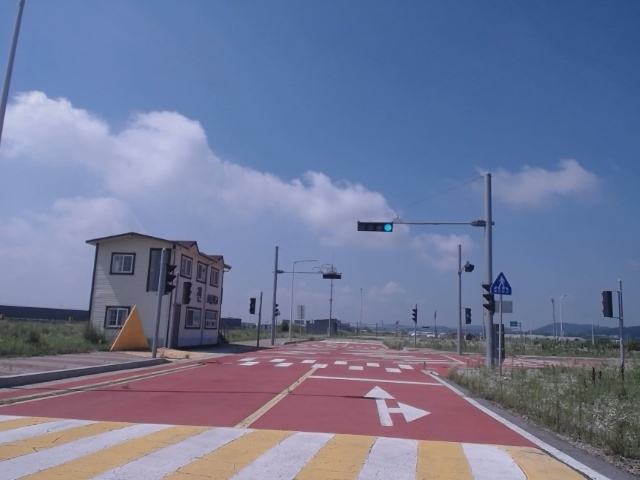straight_green_4: (357, 222, 392, 232)
